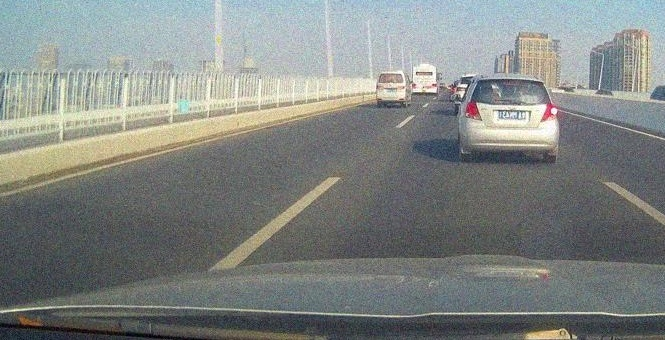L_light: (464, 101, 482, 121), (377, 86, 383, 89), (412, 84, 416, 86)
R_light: (540, 103, 557, 122), (398, 86, 405, 89), (432, 84, 437, 87)
T_light: (504, 80, 519, 83), (388, 73, 394, 75), (422, 66, 427, 67)
day-no: (376, 70, 405, 108), (412, 64, 437, 96)
day-right: (460, 74, 559, 162)
